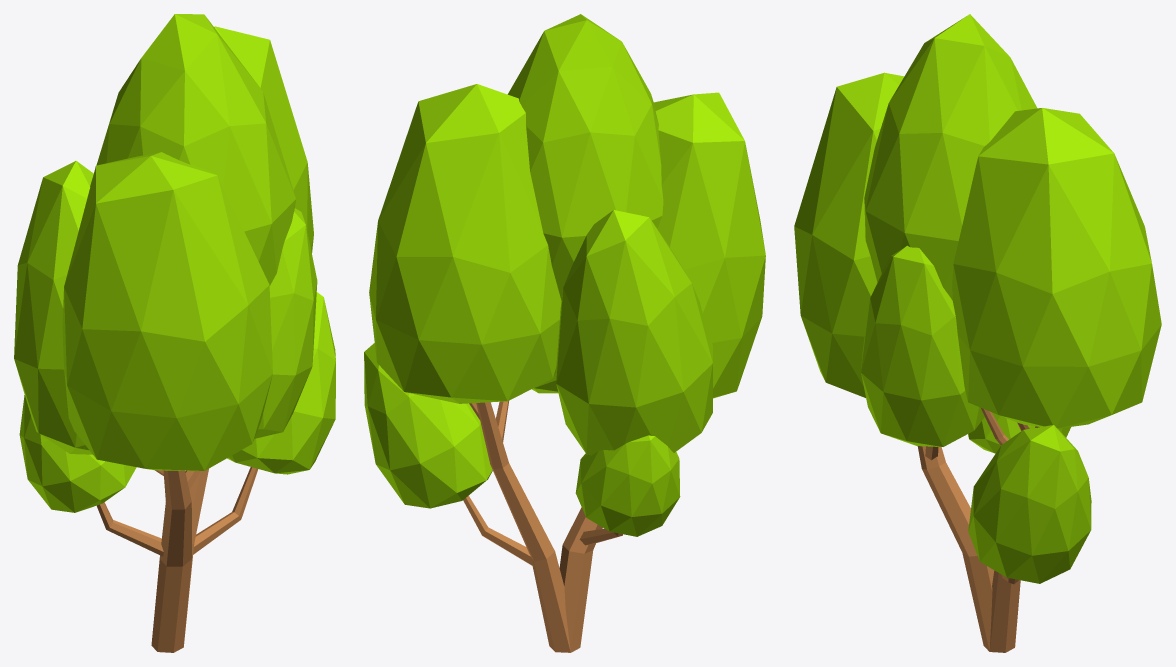
Rendered from Tree_4.fbx.
3 renders of one model, left to right at view 1: azimuth 30°, elevation 25°; view 2: azimuth 150°, elevation 25°; view 3: azimuth 270°, elevation 25°, orthographic. The views are drawn at different scales.
Visible parts, largest first — view 1: tree_4; view 2: tree_4; view 3: tree_4.
Boxes of the visible parts, x1=… form: tree_4: x1=14, y1=14, x2=335, y2=652; tree_4: x1=364, y1=14, x2=765, y2=652; tree_4: x1=794, y1=14, x2=1161, y2=652.
Bounding box in the file's own units: 784 × 1466 × 777.
